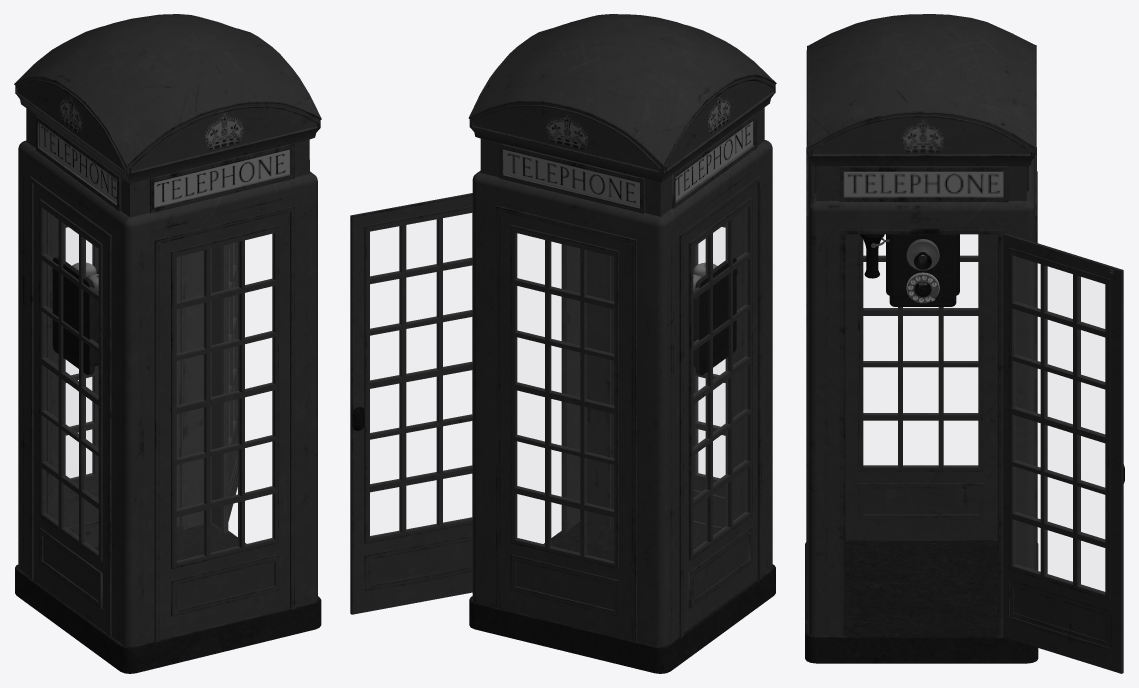
Rendered from phonebooth.glb.
The picture shows the model from 3 angles, left to right: view 1: azimuth 30°, elevation 25°; view 2: azimuth 150°, elevation 25°; view 3: azimuth 270°, elevation 25°; orthographic projection.
Visible parts, largest first — view 1: body-joined, PhoneBody, window_door; view 2: body-joined, window_door, PhoneBody; view 3: body-joined, window_door, PhoneBody, Receiver.
Boxes of the visible parts, left/top/right/bottom form: body-joined: left=14, top=14, right=321, bottom=673; PhoneBody: left=52, top=257, right=98, bottom=374; window_door: left=222, top=242, right=237, bottom=532; body-joined: left=468, top=14, right=776, bottom=673; window_door: left=350, top=193, right=472, bottom=614; PhoneBody: left=693, top=257, right=736, bottom=375; body-joined: left=805, top=14, right=1038, bottom=663; window_door: left=998, top=233, right=1124, bottom=673; PhoneBody: left=886, top=234, right=959, bottom=306; Receiver: left=860, top=234, right=884, bottom=278.
Size of the model in its own units: 0.8942 by 1.8 by 0.8958.
Materials: 3 (2 with a texture image).
